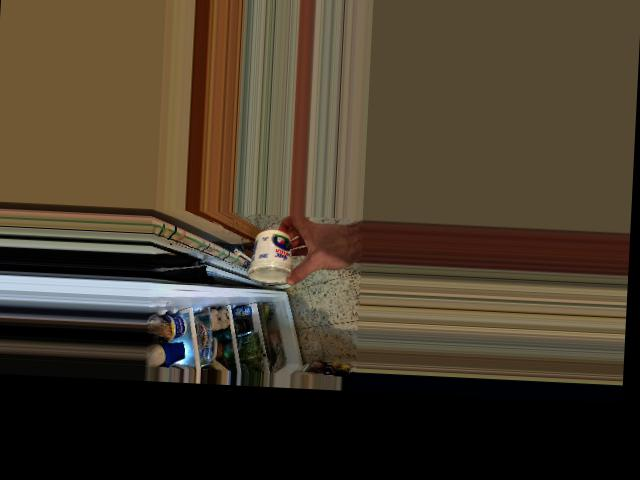cotage: (247, 226, 297, 284)
